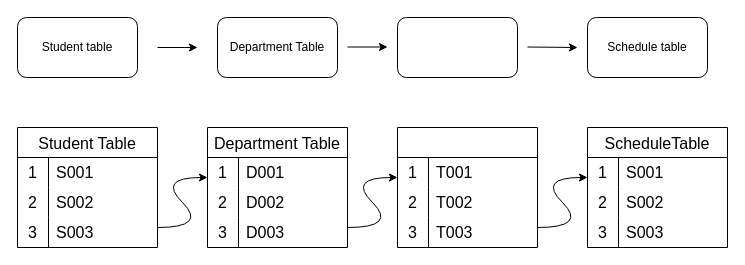
Some shapes in this 745 by 265 pixel diagram are drawn without their labels. Here are the shapes that lost their labels. From the top down, the box of each, then its label:
(396, 16, 518, 78): Teacher Table
(396, 126, 538, 248): TeacherTable
